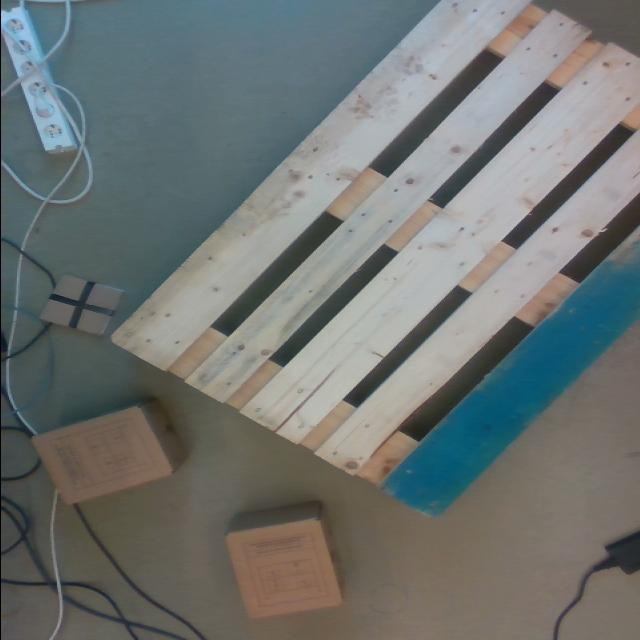pallet: (112, 0, 638, 515)
